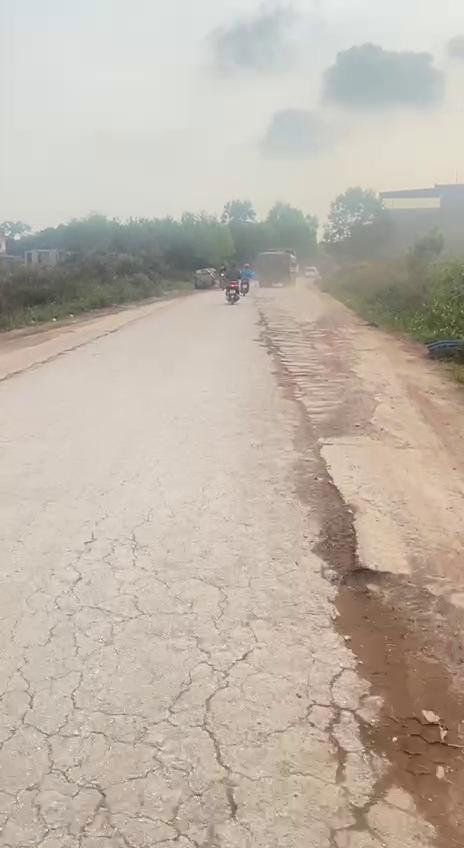pothole: (310, 508, 464, 836)
